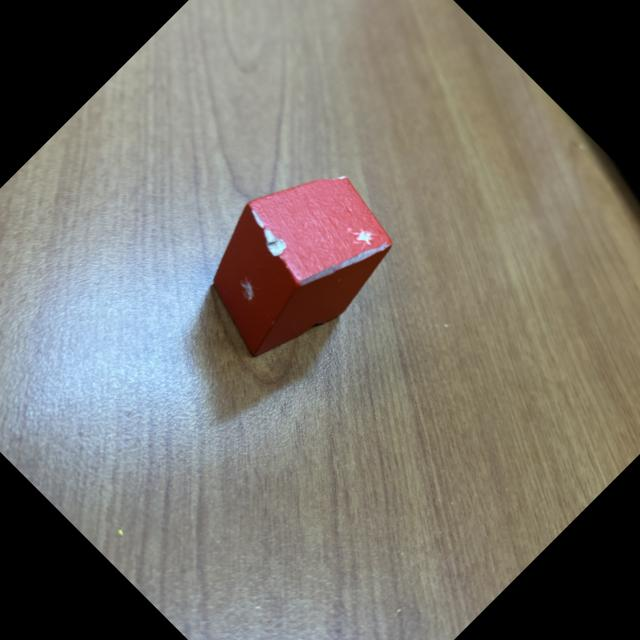broken: (172, 140, 413, 381)
